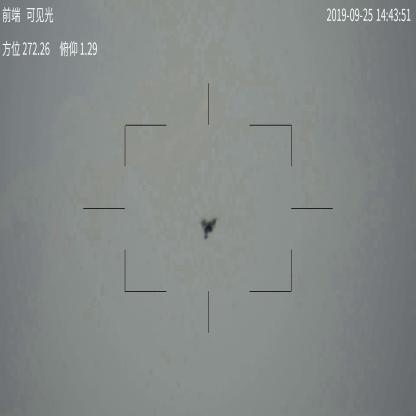uav: (197, 212, 219, 239)
